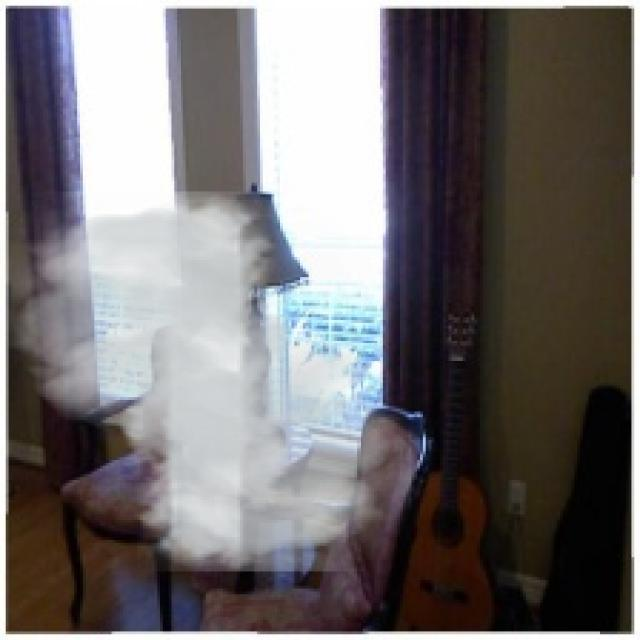Smoke: (0, 191, 412, 572)
